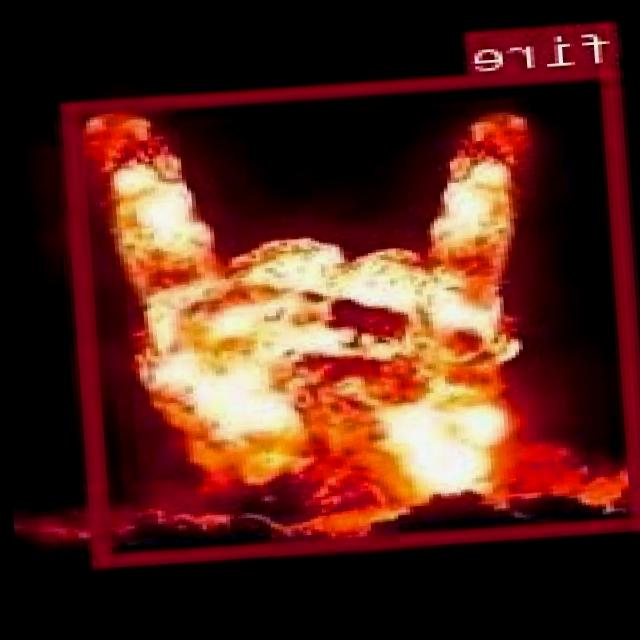fire: (66, 61, 640, 565)
